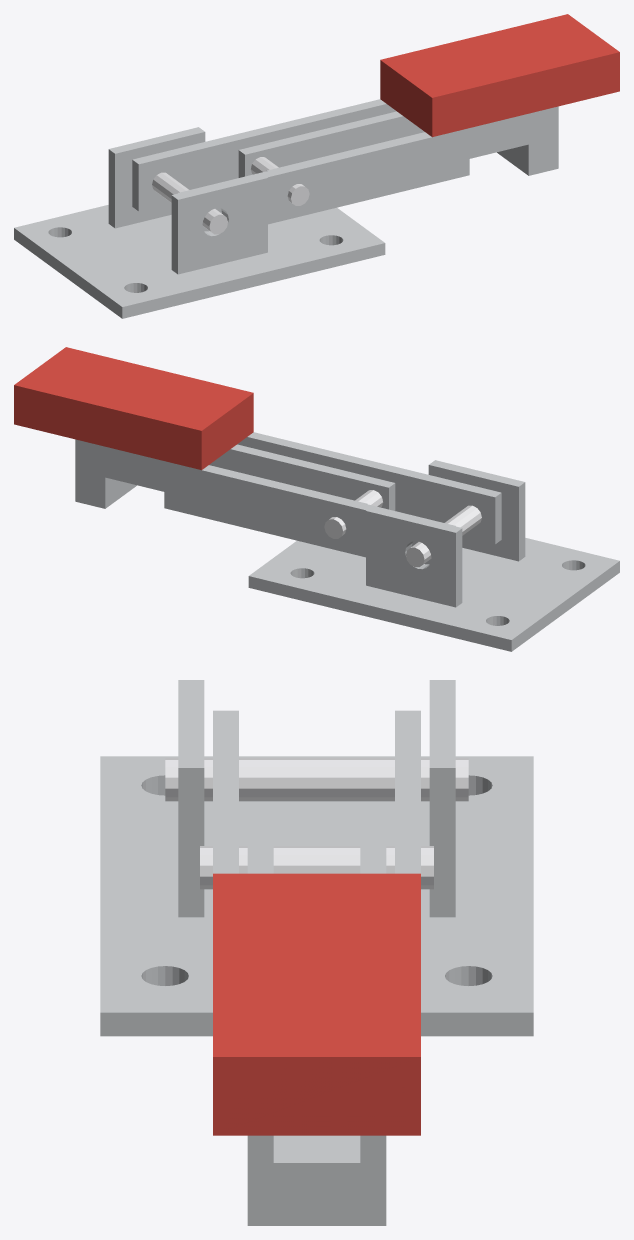
Rendered from clamp-toggle-hook.glb.
The picture shows the model from 3 angles, top to bottom: view 1: azimuth 30°, elevation 25°; view 2: azimuth 150°, elevation 25°; view 3: azimuth 270°, elevation 25°; orthographic projection. The views are drawn at different scales.
Parts seen in each view (by area): view 1: lever, body; view 2: lever, body; view 3: lever, body.
Part boxes in pixels (x1,y1,x2,y2): lever: (132, 14, 619, 234); body: (14, 127, 385, 318); lever: (14, 347, 501, 567); body: (248, 460, 619, 651); lever: (165, 710, 468, 1225); body: (100, 680, 533, 1036).
Size of what is drawn, in the model's own units: 0.14 by 0.03 by 0.05.
